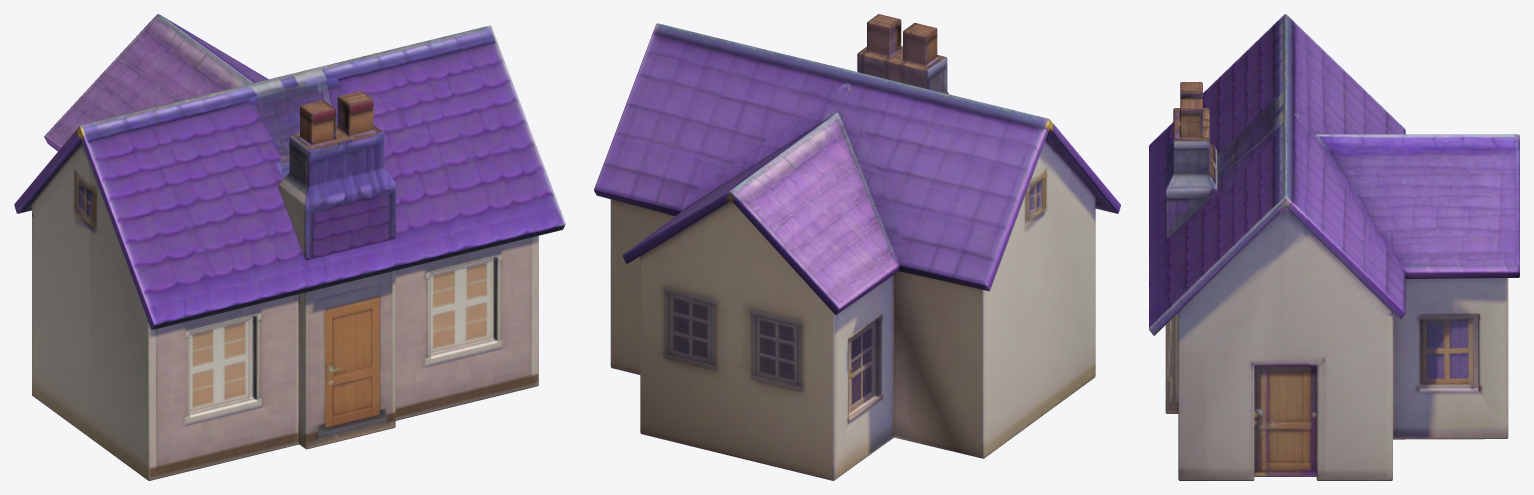
Rendered from Casita2_0415205822_texture.fbx.
The picture shows the model from 3 angles, left to right: view 1: azimuth 30°, elevation 25°; view 2: azimuth 150°, elevation 25°; view 3: azimuth 270°, elevation 25°; orthographic projection. The views are drawn at different scales.
Parts seen in each view (by area): view 1: Cube.008; view 2: Cube.008; view 3: Cube.008.
Part boxes in pixels (bbox=[...]): Cube.008: bbox=[14, 14, 565, 480]; Cube.008: bbox=[594, 14, 1120, 480]; Cube.008: bbox=[1149, 14, 1519, 480].
Bounding box in the file's own units: 200 × 151 × 170.
Materials: 1 (1 with a texture image).
